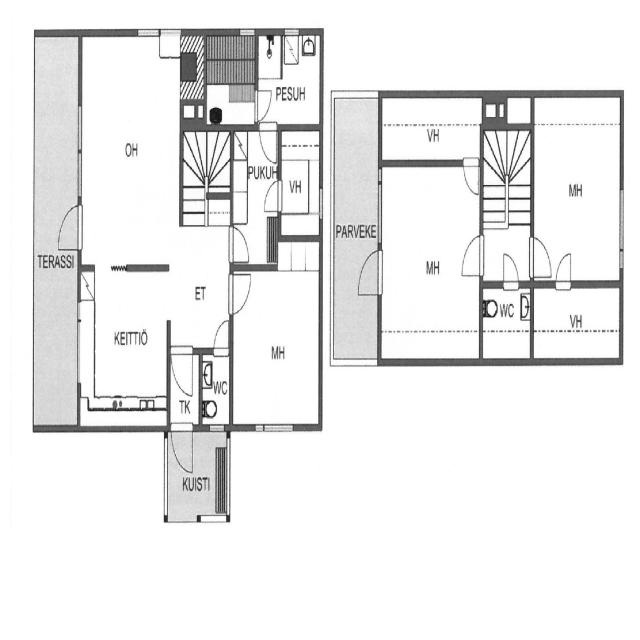door: (168, 346, 196, 398), (458, 229, 484, 281), (169, 424, 195, 476), (526, 232, 554, 280), (228, 268, 254, 318), (228, 223, 252, 266), (258, 121, 280, 167), (460, 153, 482, 199), (210, 315, 232, 354), (500, 247, 520, 289), (253, 84, 274, 122), (555, 248, 575, 287), (262, 178, 284, 212)
window: (73, 103, 88, 199), (614, 183, 628, 269), (248, 418, 298, 440), (372, 172, 386, 250), (73, 291, 84, 390), (134, 22, 176, 43), (317, 183, 326, 220), (283, 23, 301, 38), (238, 26, 257, 37)
zone: (80, 31, 182, 267), (380, 160, 482, 363), (531, 92, 622, 283), (76, 263, 169, 421), (231, 264, 320, 427), (532, 281, 624, 363), (381, 94, 484, 164), (230, 131, 280, 270), (255, 27, 321, 125), (202, 29, 258, 125), (280, 122, 322, 235), (480, 280, 533, 361), (199, 349, 231, 426), (483, 90, 533, 126), (353, 246, 383, 302), (55, 201, 84, 252)
